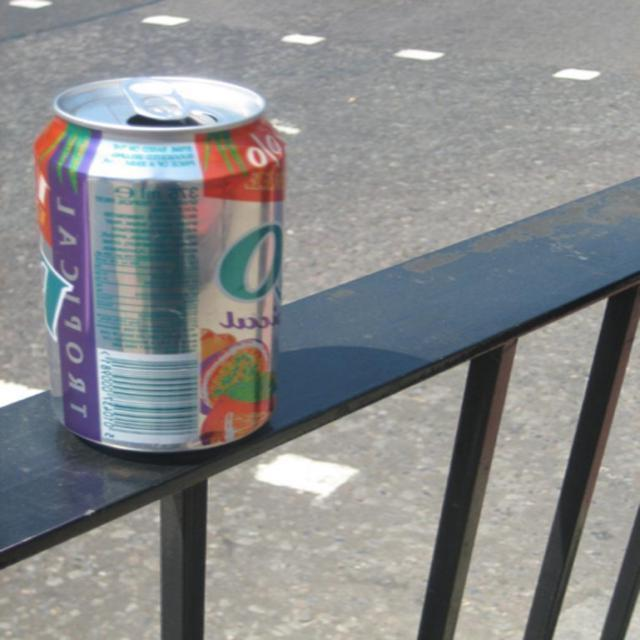metal: (25, 68, 289, 464)
